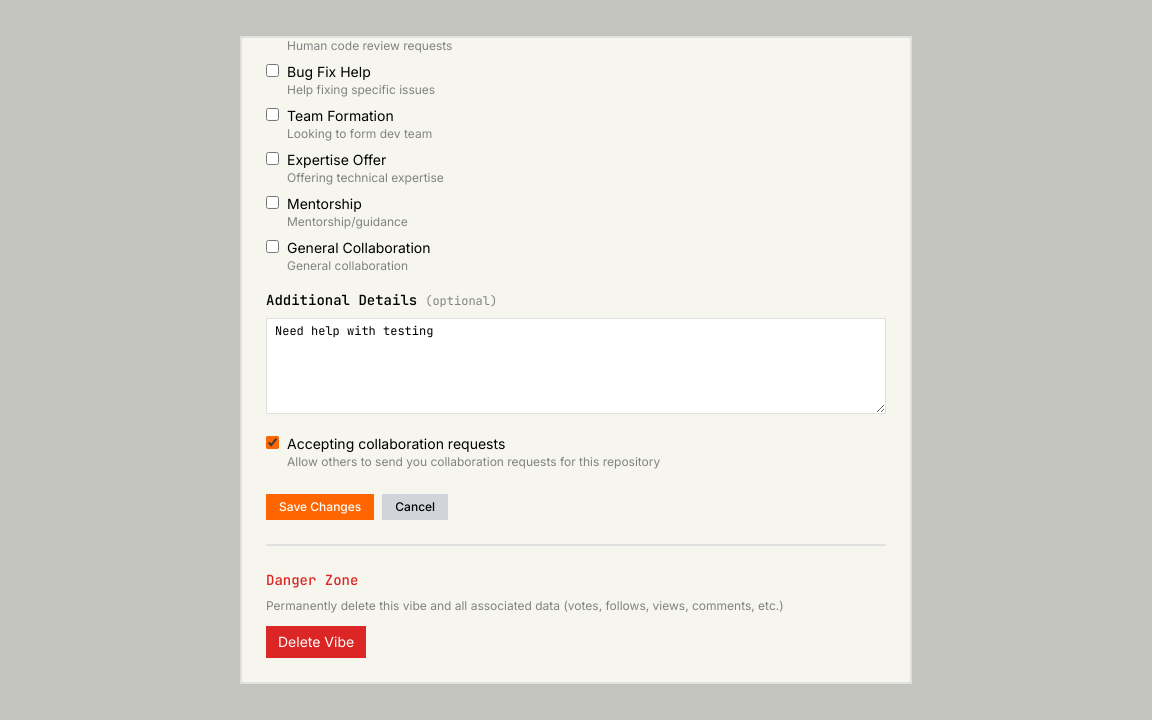
Test: EditVibeModal › Save Functionality › should show error message on failed save
(page scrolled)
Click the button "Save Changes" at (320, 507), box [266,494,374,520]
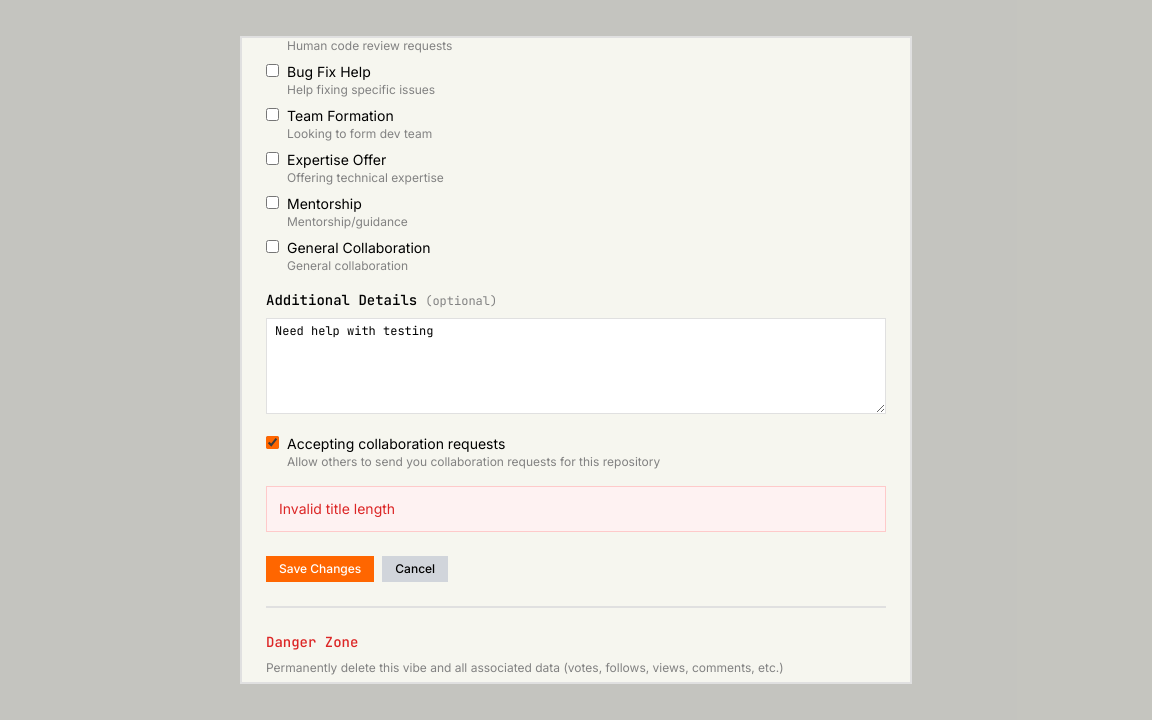
expect the text "Invalid title length" is shown: met, box [266,486,886,532]
